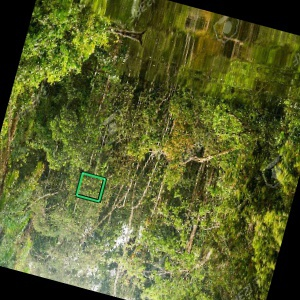square: (73, 169, 107, 204)
